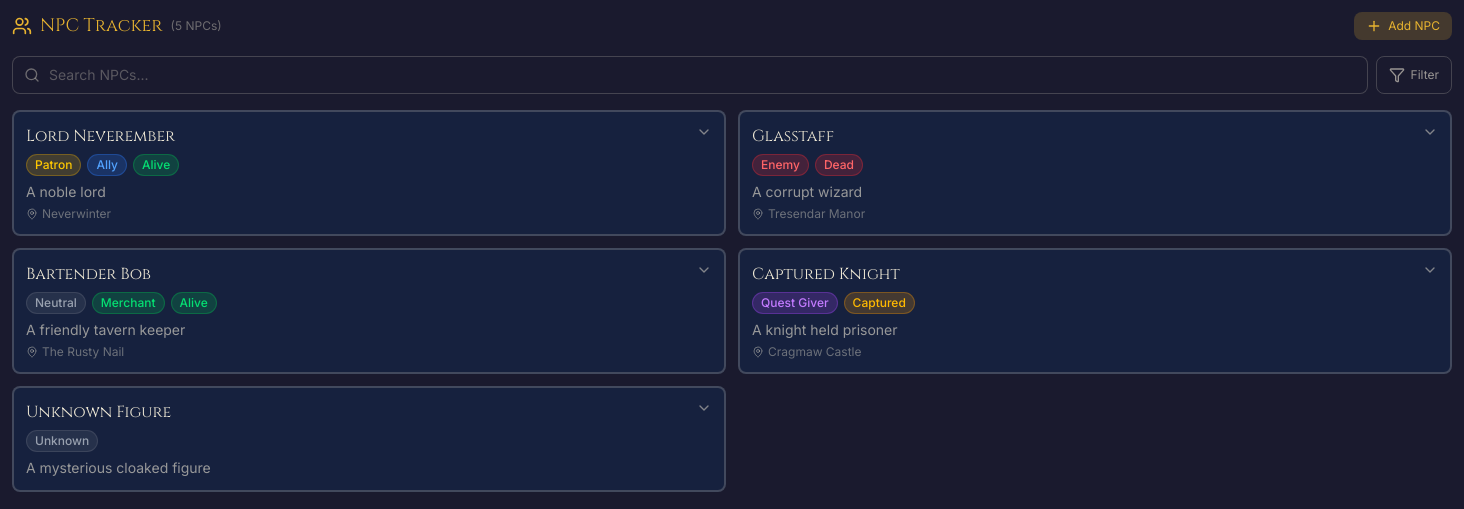
it: NPCTracker › should clear all filters when clear button clicked
Search first
Type "Lord" into the field labelled "Search NPCs" at x=690, y=75, box [12,56,1368,94]
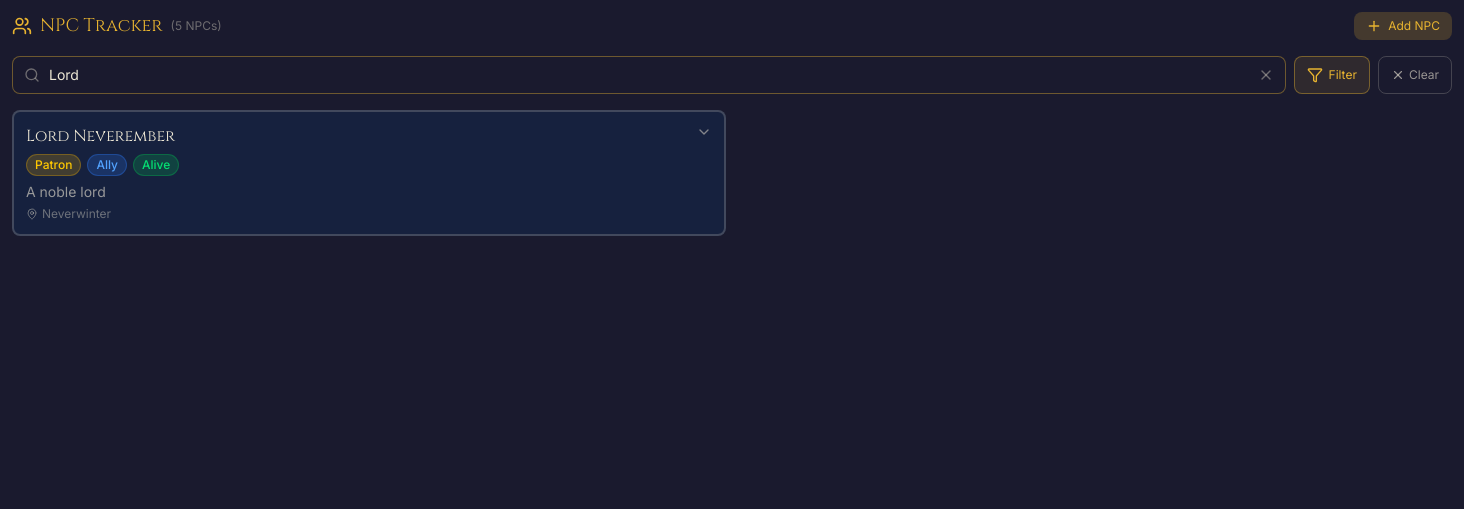
Expected: the button "Glasstaff" is gone
Clear filters
Click the button with aria-label "Clear all filters" at x=1415, y=75, box [1378,56,1452,94]
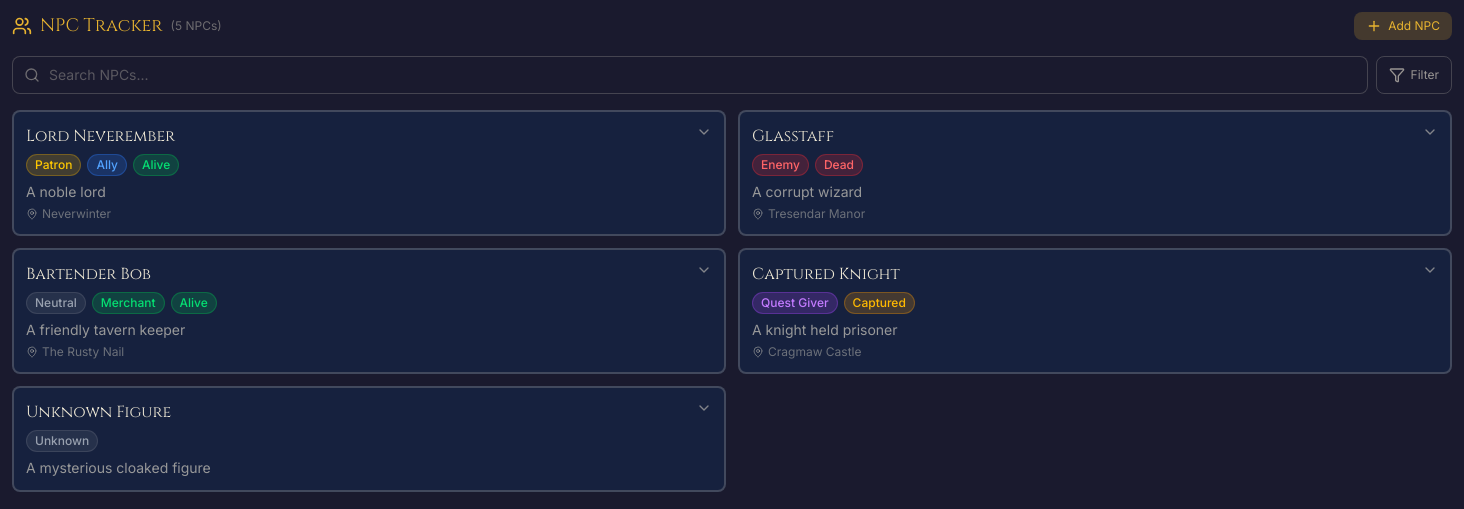
Expected: the heading "Glasstaff" is shown, [752,125,834,147]
